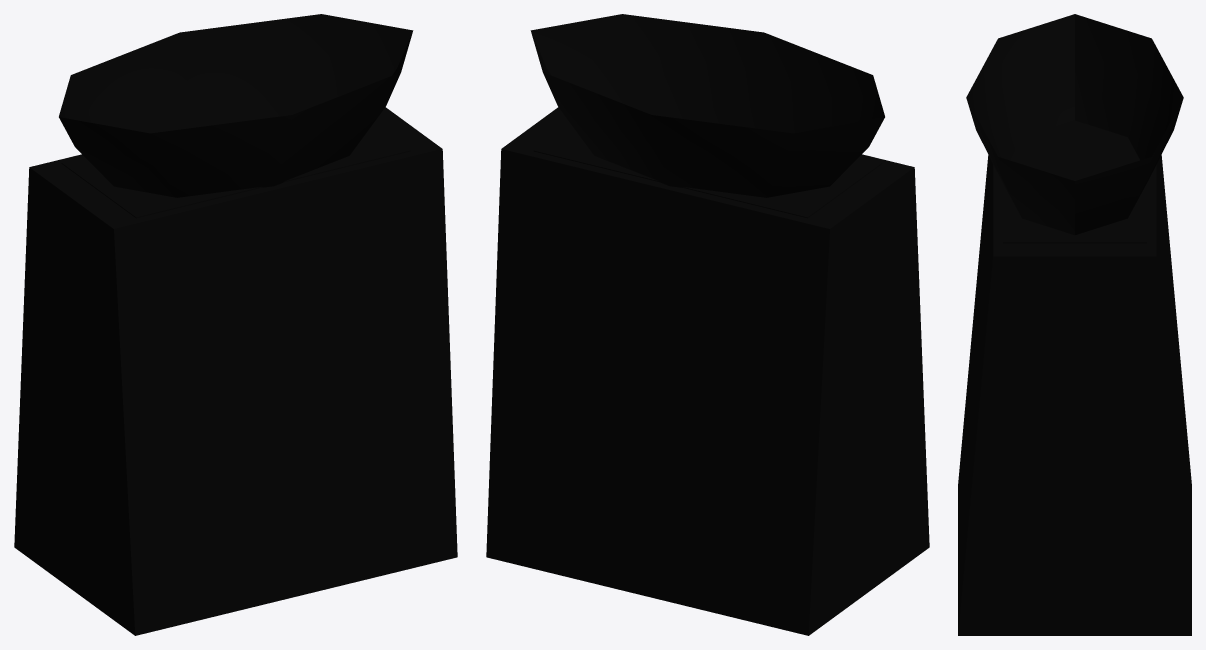
The model's file is SM_sack_potatoes.fbx.
The picture shows the model from 3 angles, left to right: view 1: azimuth 30°, elevation 25°; view 2: azimuth 150°, elevation 25°; view 3: azimuth 270°, elevation 25°; orthographic projection. The views are drawn at different scales.
Parts seen in each view (by area): view 1: sack_potatoes; view 2: sack_potatoes; view 3: sack_potatoes.
Part boxes in pixels (x1,y1,x2,y2): sack_potatoes: [14, 14, 457, 635]; sack_potatoes: [486, 14, 929, 635]; sack_potatoes: [958, 14, 1191, 635].
Size of the model in its own units: 0.44 by 0.5675 by 0.26.
